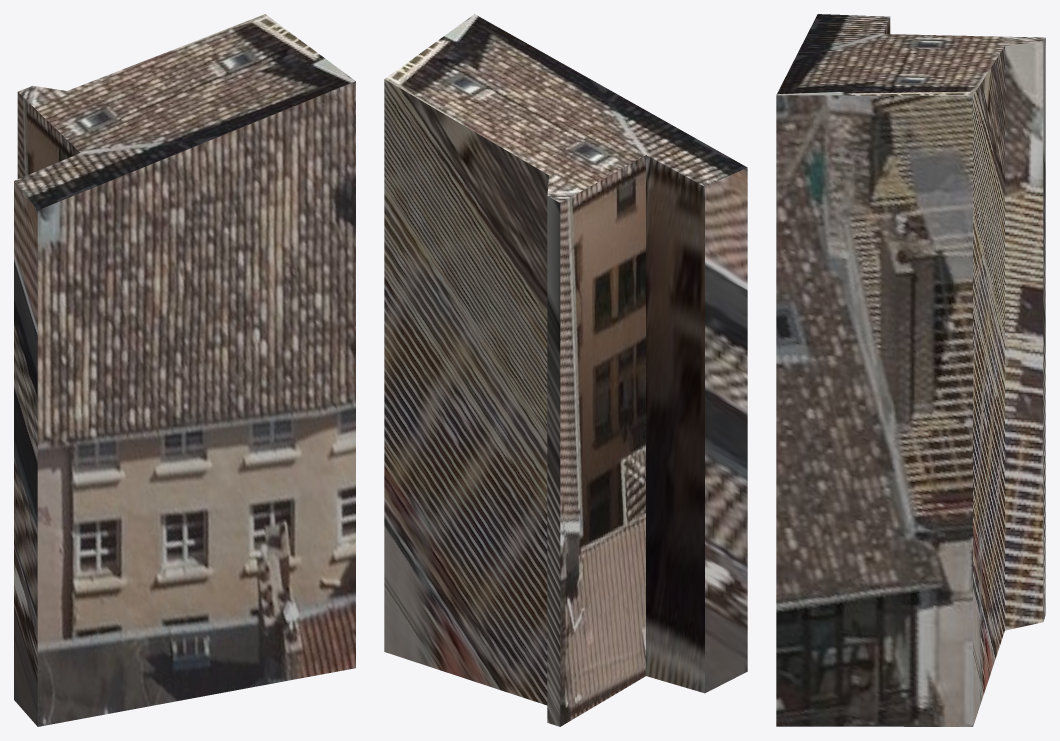
The picture shows the model from 3 angles, left to right: view 1: azimuth 30°, elevation 25°; view 2: azimuth 150°, elevation 25°; view 3: azimuth 270°, elevation 25°; orthographic projection. The views are drawn at different scales.
Visible parts, largest first — view 1: Z_UP; view 2: Z_UP; view 3: Z_UP.
Part boxes in pixels (box(x1,y1,x2,y2)): Z_UP: box(14, 14, 355, 726); Z_UP: box(384, 14, 747, 726); Z_UP: box(776, 14, 1045, 726).
Bounding box in the file's own units: 9.5 × 17.78 × 6.88.
2 materials, 1 textured.
